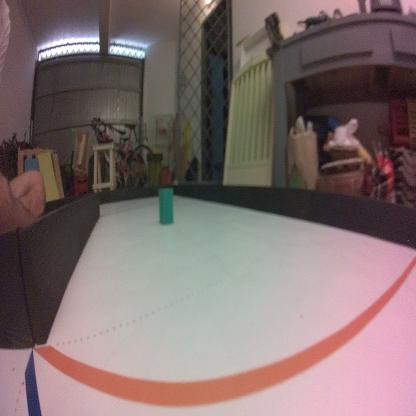green: (157, 186, 174, 229)
